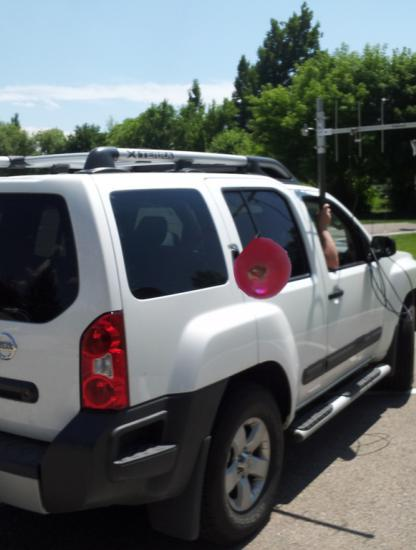Redcurrant: (233, 240, 293, 300)
